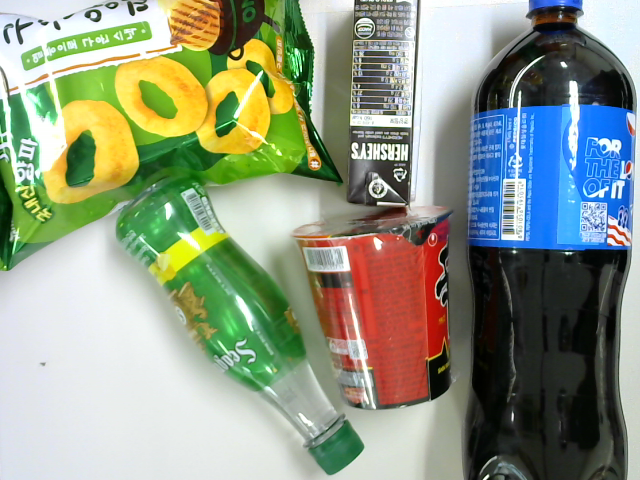Grilled_Onions: (1, 1, 345, 275)
Hush_Choco_Drink: (346, 1, 419, 210)
Pepsi_Cola_1.5L: (465, 1, 640, 480)
Seagram_Lemon_Carbonated_Water: (117, 174, 368, 477)
Sinramen_small: (293, 203, 456, 411)
